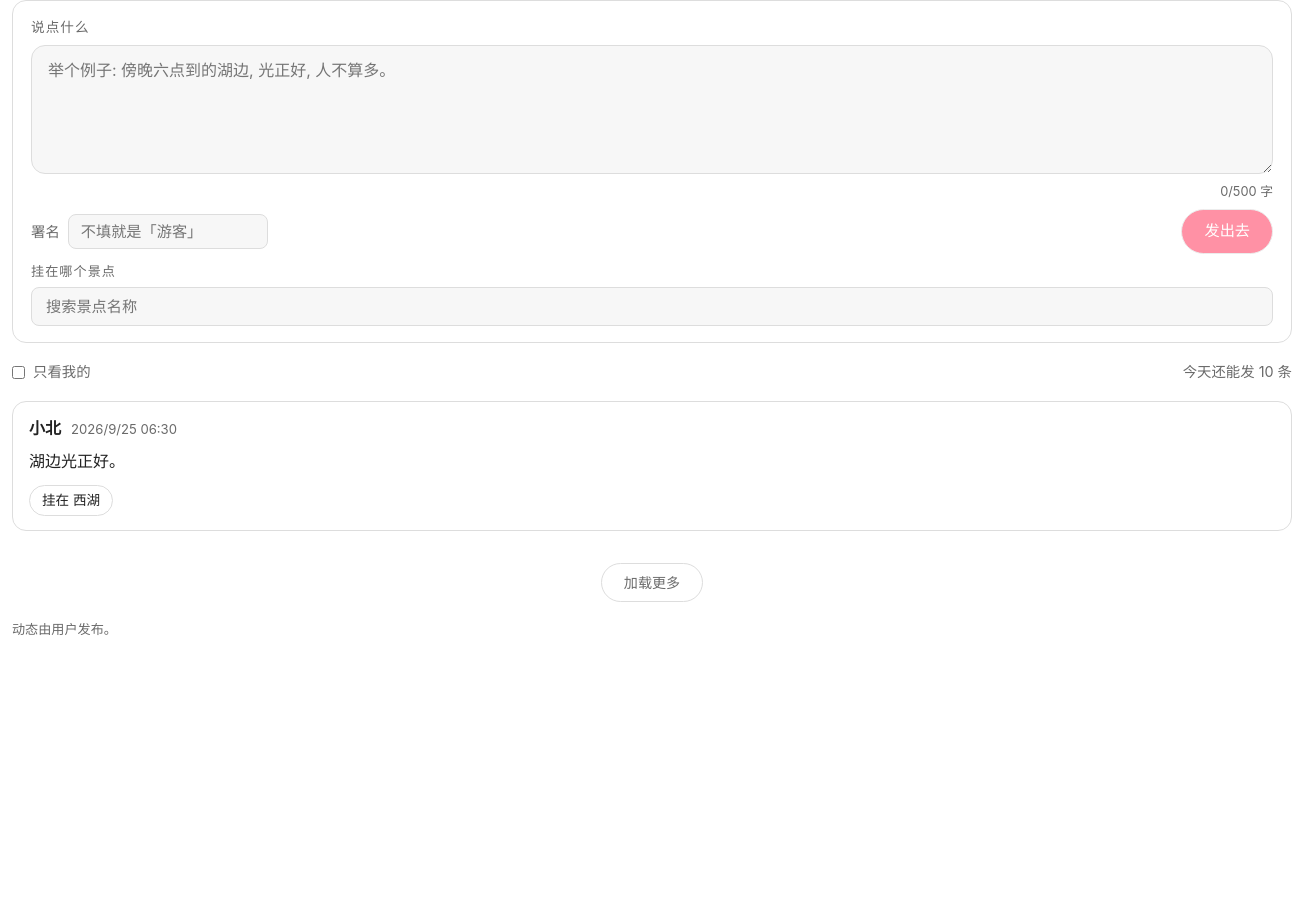
it: PostsPage › 「加载更多」把上一页的游标原样带回去, 取到的还是更旧的那一批
expect the text "湖边光正好。" is shown: met, box [29,451,125,471]
Click the button "加载更多" at (652, 582), box [601,563,703,602]
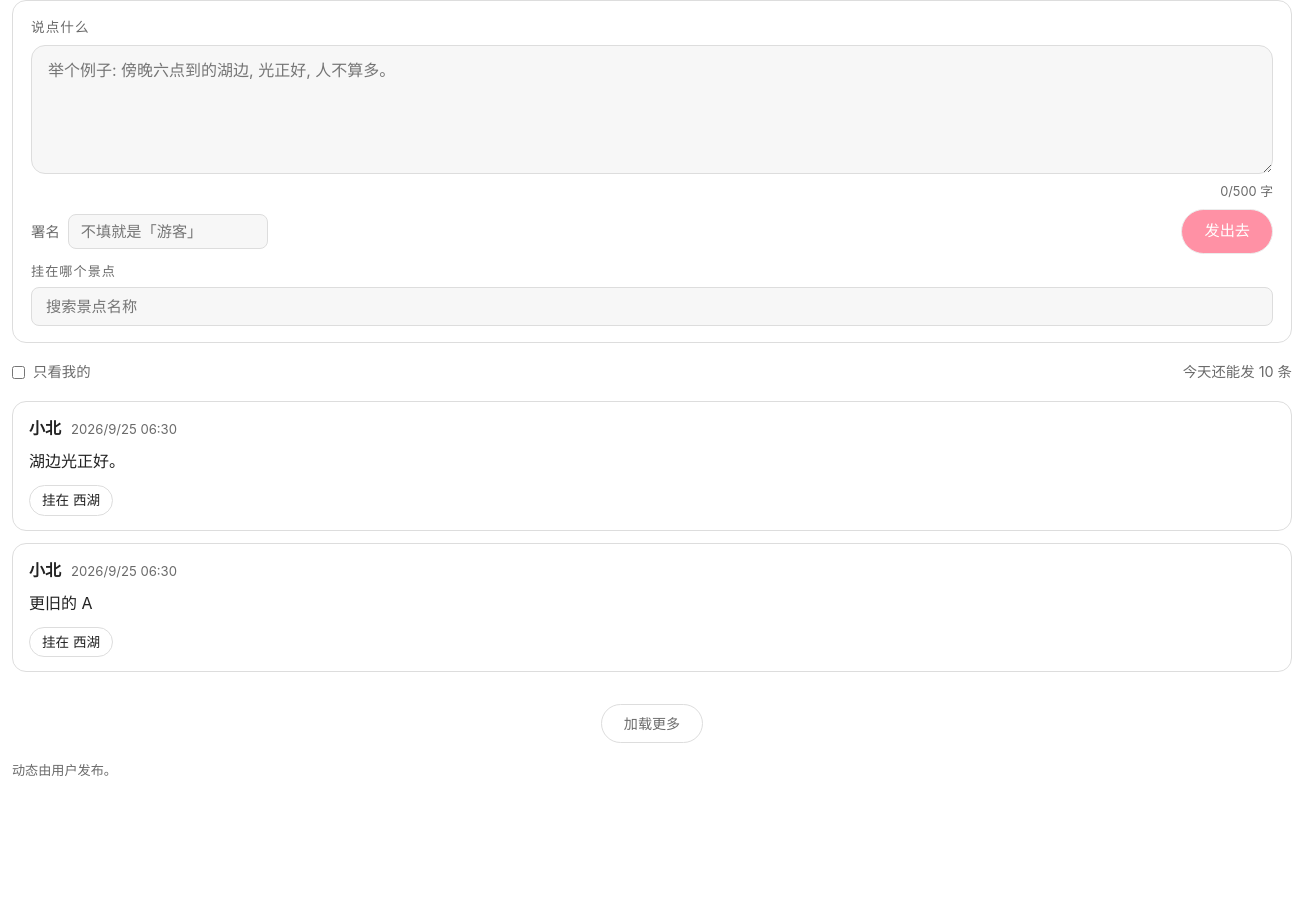
expect the text "更旧的 A" is shown: met, box [29,593,92,613]
